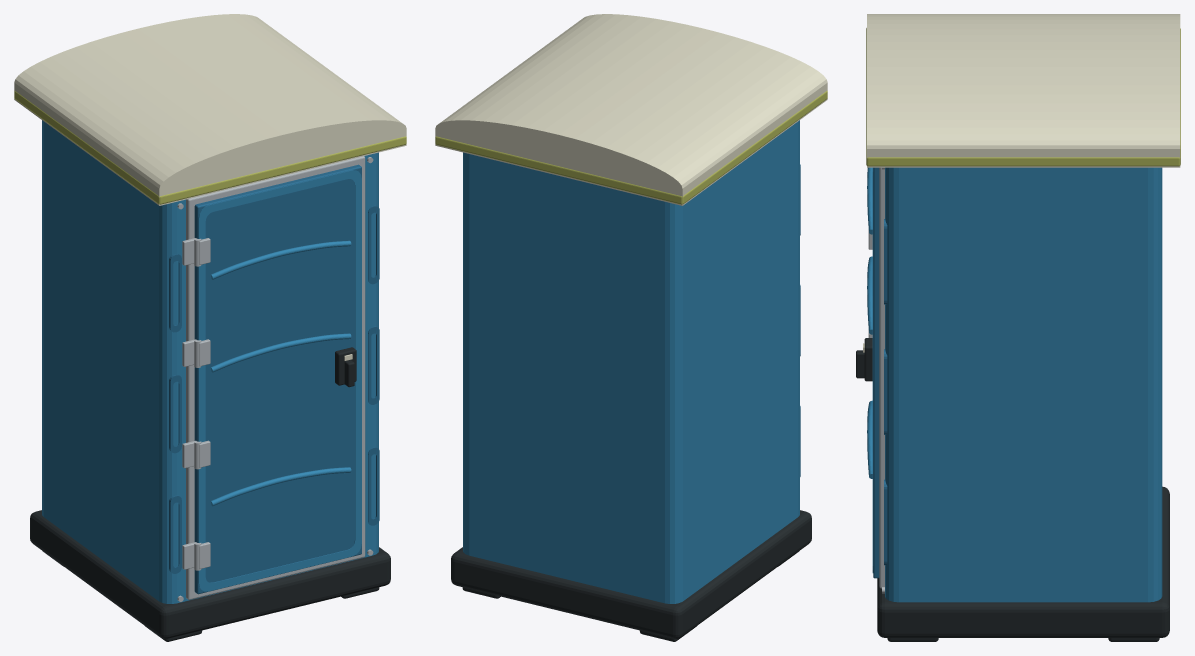
File: full.glb
3 renders of one model, left to right at view 1: azimuth 30°, elevation 25°; view 2: azimuth 150°, elevation 25°; view 3: azimuth 270°, elevation 25°, orthographic. The views are drawn at different scales.
Visible parts, largest first — view 1: Closed exterior cabin, Closed door skin, Shallow arched roof, Low skid base, Rounded door reinforcing rim, Door jamb foundation, Roof edge apron, Curved door reinforcement 0.63, Curved door reinforcement 1.25, Curved door reinforcement 1.68, Side molded rhomboid -12, Side molded rhomboid -10 (+4 smaller); view 2: Closed exterior cabin, Shallow arched roof, Low skid base, Roof edge apron; view 3: Closed exterior cabin, Shallow arched roof, Low skid base, Roof edge apron, Closed door skin, Door jamb foundation, Rounded door reinforcing rim.
Part boxes in pixels (box(x1,y1,x2,y2)): Closed exterior cabin: box(42, 120, 378, 603); Closed door skin: box(194, 164, 361, 594); Shallow arched roof: box(14, 14, 406, 205); Low skid base: box(30, 510, 390, 638); Rounded door reinforcing rim: box(198, 170, 361, 591); Door jamb foundation: box(186, 156, 365, 599); Roof edge apron: box(14, 90, 406, 204); Curved door reinforcement 0.63: box(210, 467, 351, 506); Curved door reinforcement 1.25: box(211, 333, 351, 372); Curved door reinforcement 1.68: box(211, 240, 351, 279); Side molded rhomboid -12: box(169, 254, 181, 332); Side molded rhomboid -10: box(169, 495, 181, 573); Closed exterior cabin: box(463, 120, 799, 603); Shallow arched roof: box(435, 14, 827, 205); Low skid base: box(451, 510, 811, 638); Roof edge apron: box(435, 90, 827, 204); Closed exterior cabin: box(885, 167, 1162, 602); Shallow arched roof: box(867, 14, 1180, 167); Low skid base: box(877, 486, 1169, 637); Roof edge apron: box(866, 28, 1180, 166); Closed door skin: box(873, 167, 879, 578); Door jamb foundation: box(879, 167, 884, 588); Rounded door reinforcing rim: box(872, 168, 873, 572).
Bounding box in the file's own units: 1.21 × 2.27 × 1.26.
